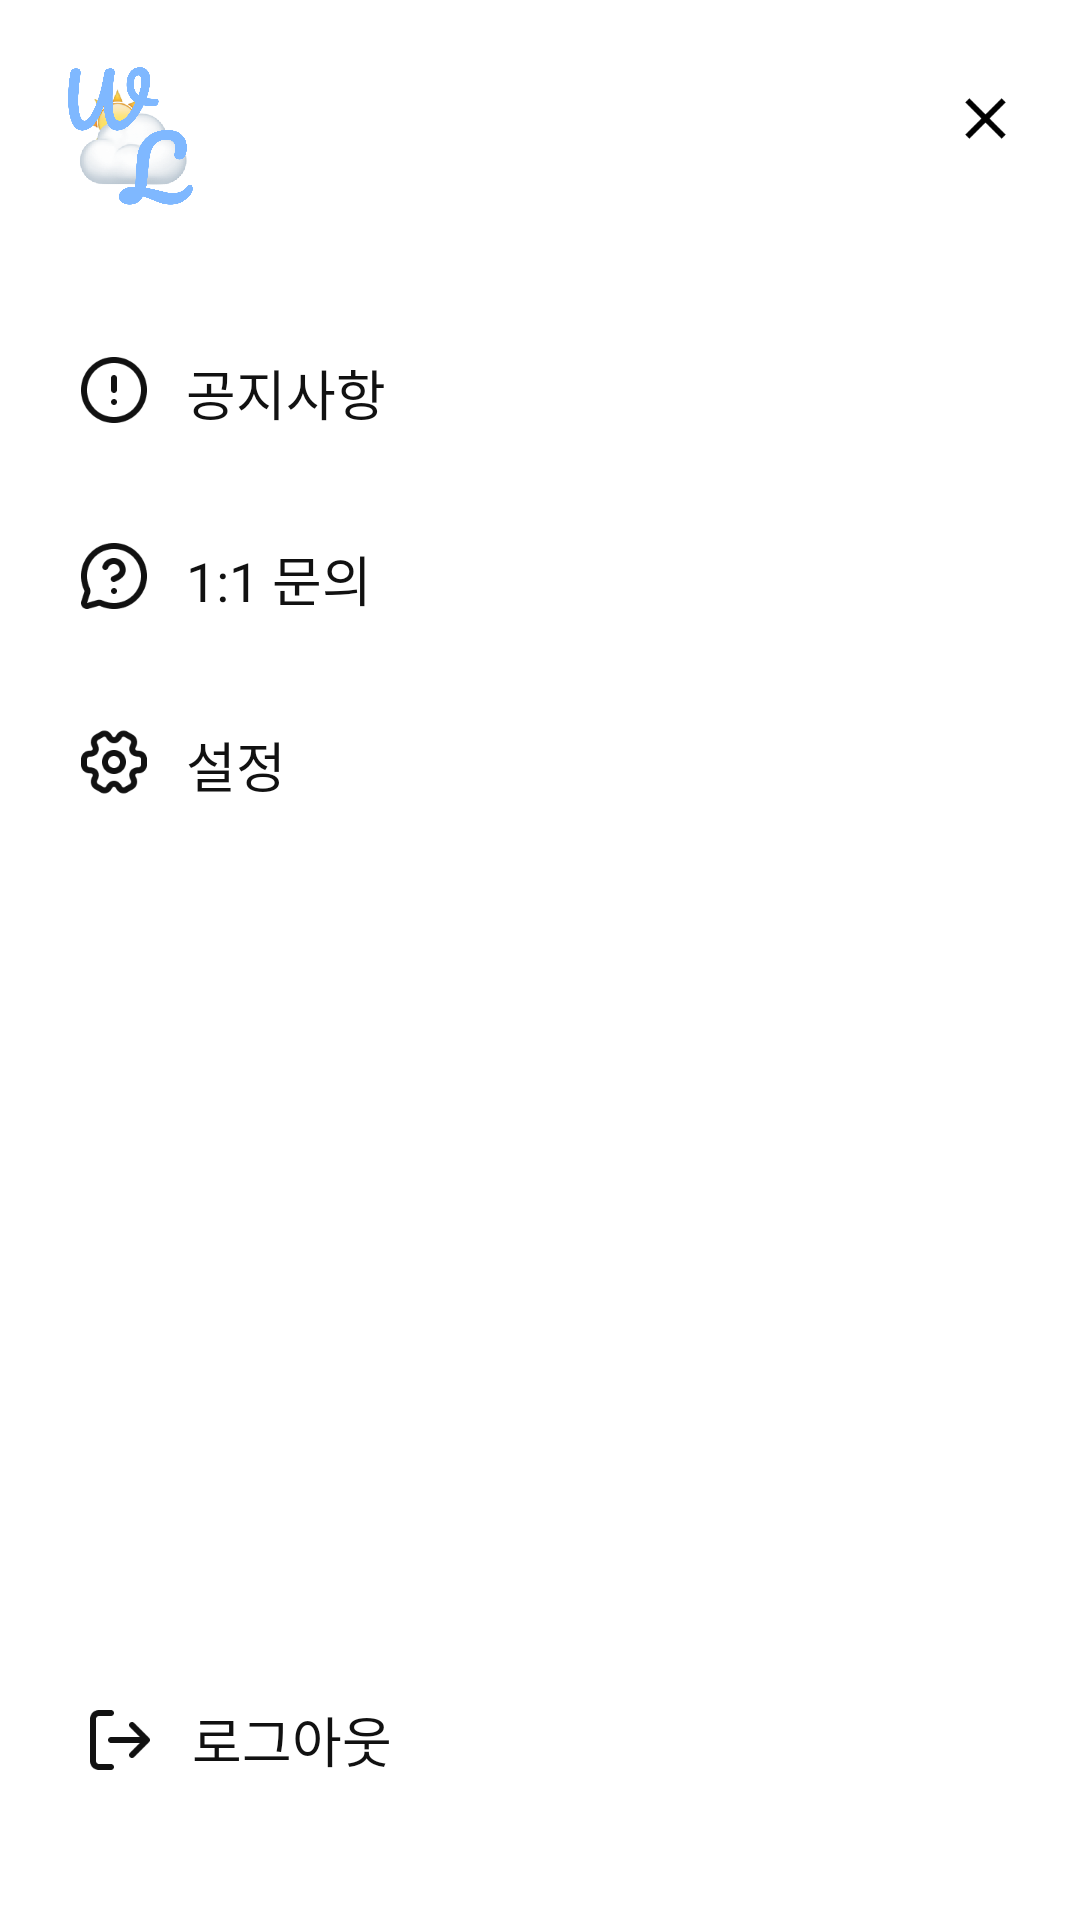

Icons on this 1080px×1920px Android screen, each with its box as (x1, y1, x2, y2):
announcement: (81, 357, 147, 423)
inquiry: (81, 543, 147, 609)
settings: (81, 730, 147, 794)
